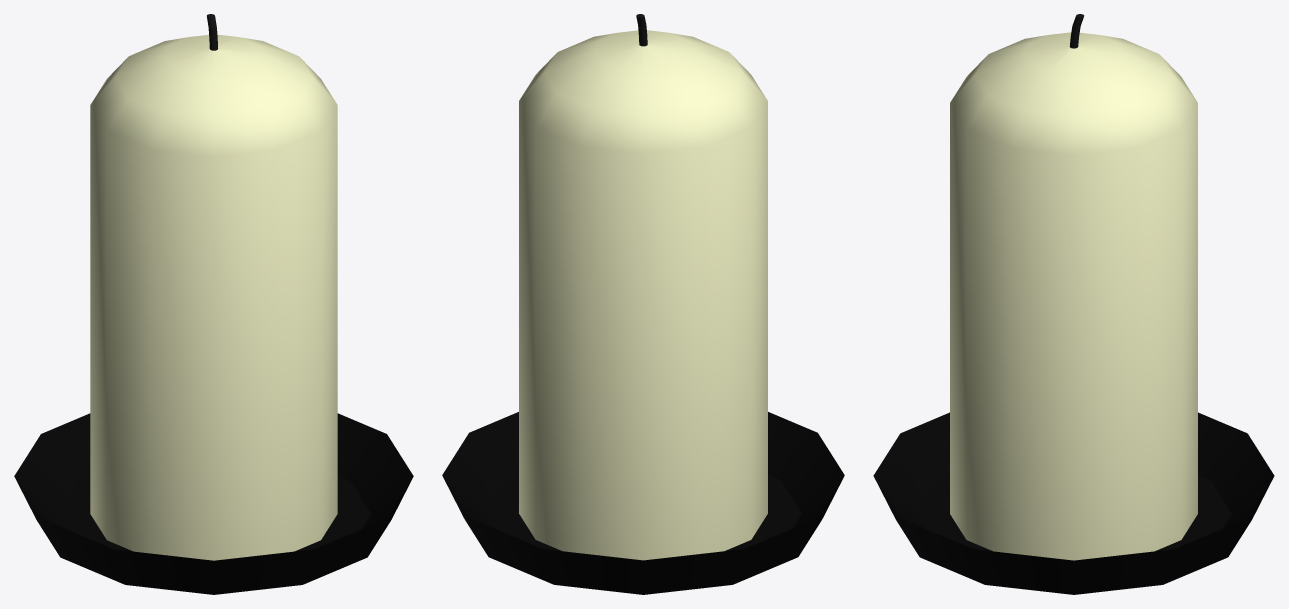
File: Candle.FBX
3 renders of one model, left to right at view 1: azimuth 30°, elevation 25°; view 2: azimuth 150°, elevation 25°; view 3: azimuth 270°, elevation 25°, orthographic.
Visible parts, largest first — view 1: CandlePlateAndCandle; view 2: CandlePlateAndCandle; view 3: CandlePlateAndCandle.
Part boxes in pixels (bbox=[...]): CandlePlateAndCandle: bbox=[14, 14, 413, 594]; CandlePlateAndCandle: bbox=[442, 14, 844, 594]; CandlePlateAndCandle: bbox=[873, 14, 1274, 594].
Size of the model in its own units: 9.37 by 13 by 9.37.
